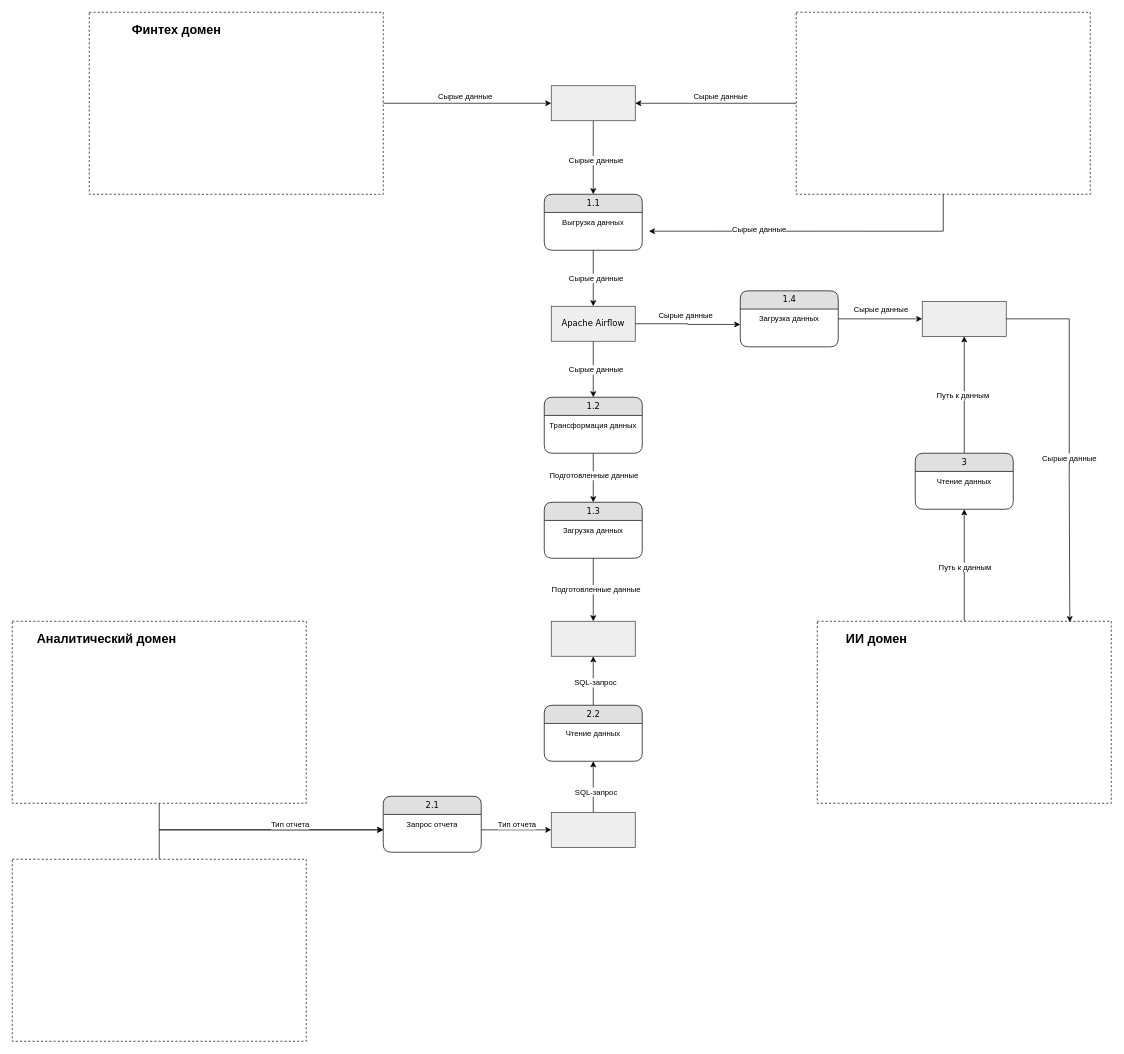
The diagram is 1124 pixels wide and 1054 high, and some of its shapes have lost their labels. Here are the shapes that lost their labels. From the top down, the centre of each, then its label:
At pixel 593 103: "Шина событий".
At pixel 943 103: "Медицинский домен".
At pixel 964 318: "S3".
At pixel 593 638: "PostgreSQL".
At pixel 593 829: "Apache Supreset".
At pixel 159 950: "Головной домен".
